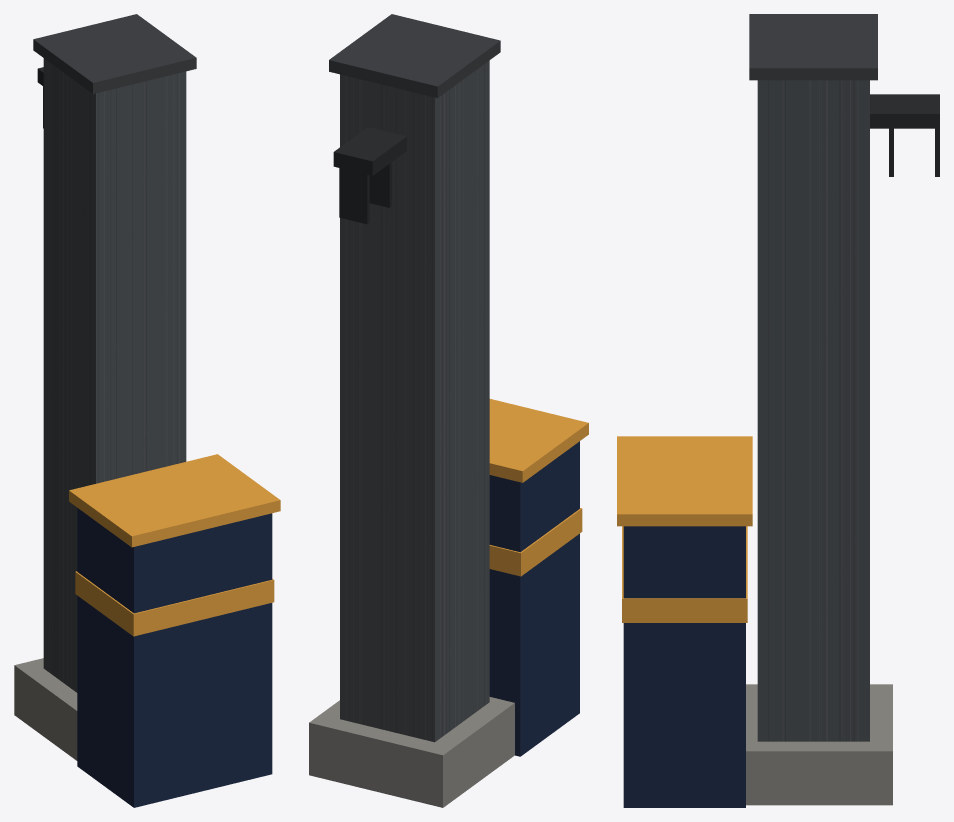
Rendered from MinidoracatKnoxPass_slidemotor1_B.glb.
3 renders of one model, left to right at view 1: azimuth 30°, elevation 25°; view 2: azimuth 150°, elevation 25°; view 3: azimuth 270°, elevation 25°, orthographic. The views are drawn at different scales.
Parts seen in each view (by area): view 1: MinidoracatKnoxPass_slidemotor1_B; view 2: MinidoracatKnoxPass_slidemotor1_B; view 3: MinidoracatKnoxPass_slidemotor1_B.
Boxes of the visible parts, box(x1,y1,x2,y2) form: MinidoracatKnoxPass_slidemotor1_B: box(14, 14, 280, 807); MinidoracatKnoxPass_slidemotor1_B: box(309, 14, 588, 807); MinidoracatKnoxPass_slidemotor1_B: box(617, 14, 939, 807).
Bounding box in the file's own units: 0.56 × 2.44 × 0.977.
1 material, 1 textured.
